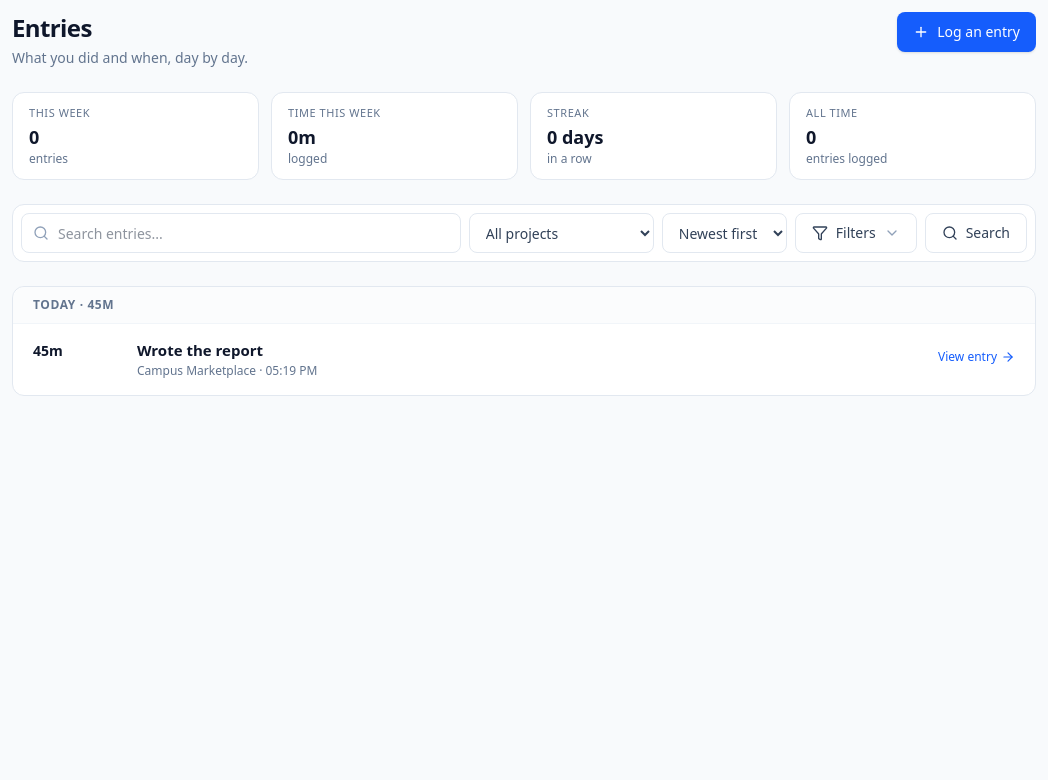
EntriesPage — the timeline › offers to clear the filters when nothing matches
Check: the heading "Entries" is shown, box [12,11,92,44]
Check: the text "Wrote the report" is shown, box [137,340,263,360]
Type "zzzz" into the search field with placeholder "Search entries..." at (241,233), box [21,213,461,253]
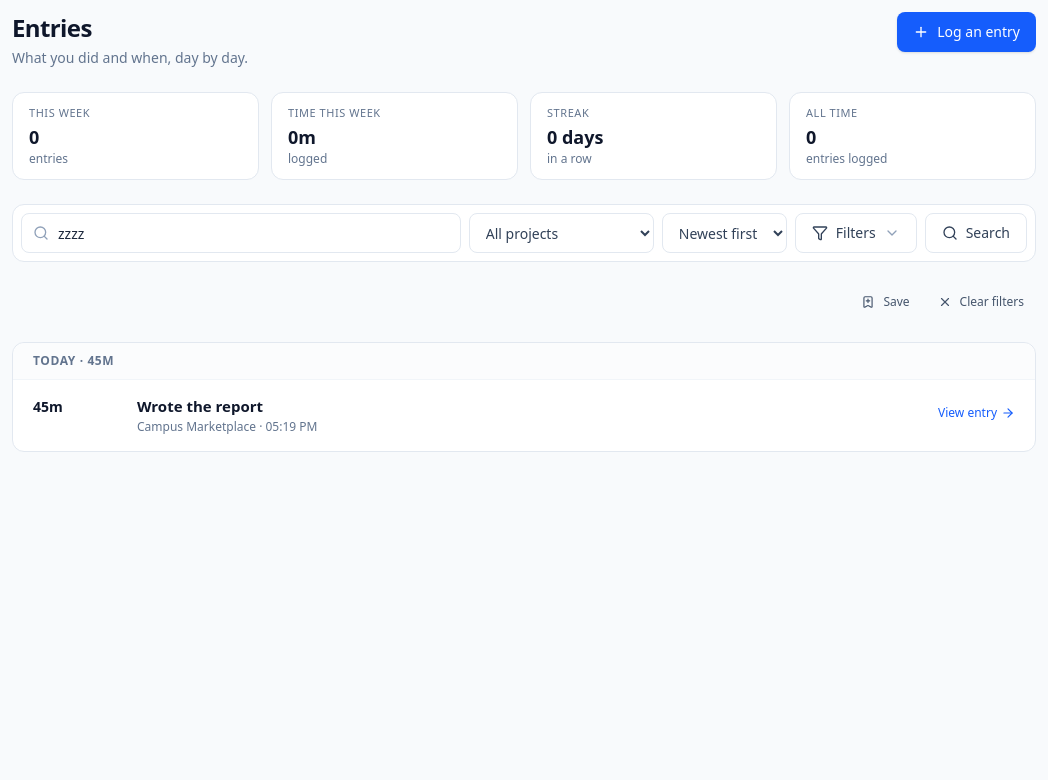
Click the button "Search" at (976,233), box [925,213,1027,253]
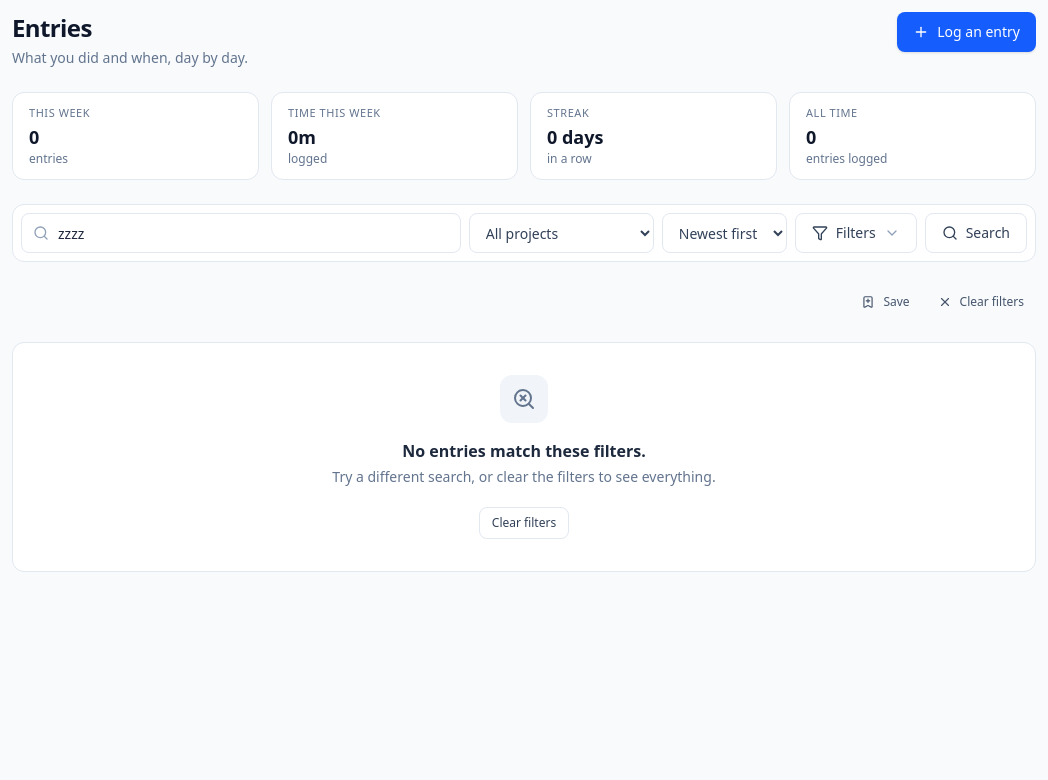
Check: the text "No entries match these filters." is shown, box [402,439,646,463]
Click the button "Clear filters" below "No entries match these filters." at (524,523), box [479,507,569,539]
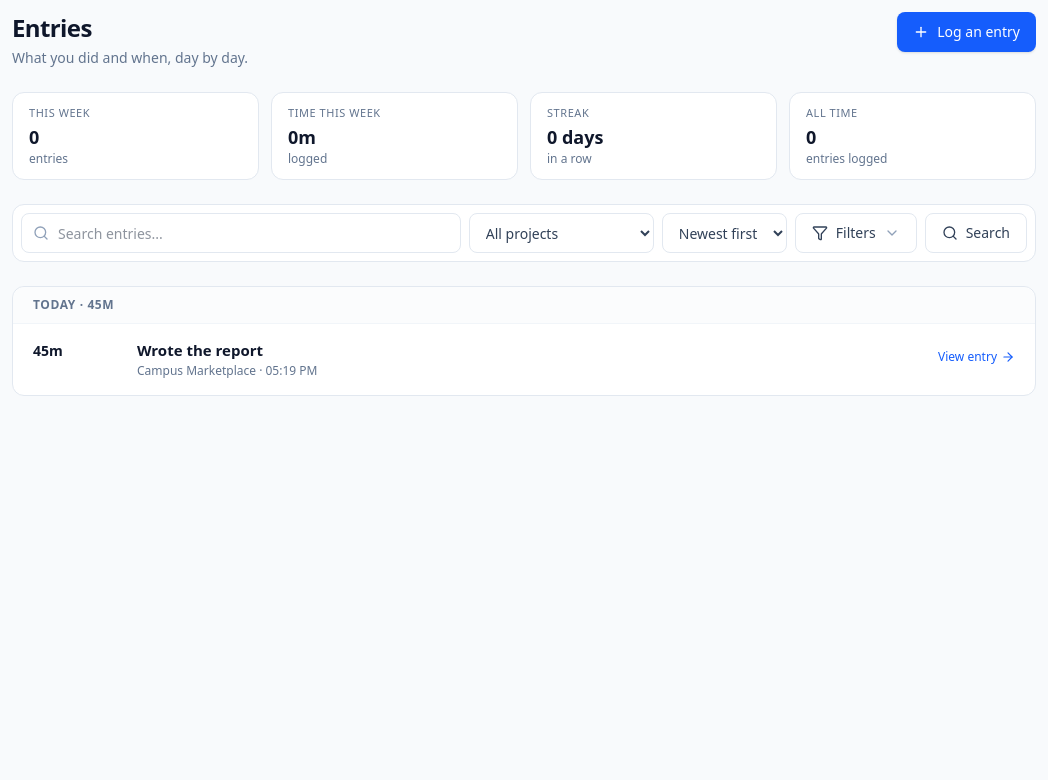
Check: the text "Wrote the report" is shown, box [137,340,263,360]
